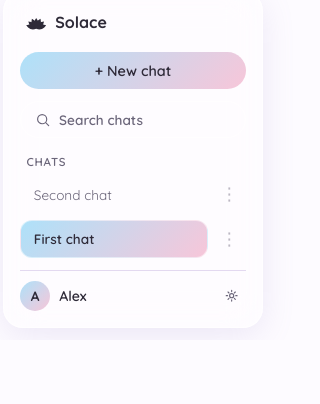
it: Sidebar › options menu › opens the menu with Rename, Share, and Delete when the options button is clicked
Click the button named "Options for First chat" at [229, 239], box [212,225,246,252]
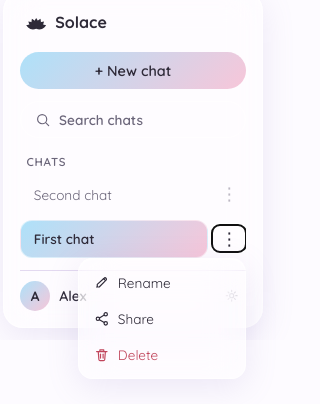
Now the menu item "Rename" is shown, box [85,265,239,300]
Now the menu item "Share" is shown, box [85,301,239,336]
Now the menu item "Delete" is shown, box [85,337,239,372]
